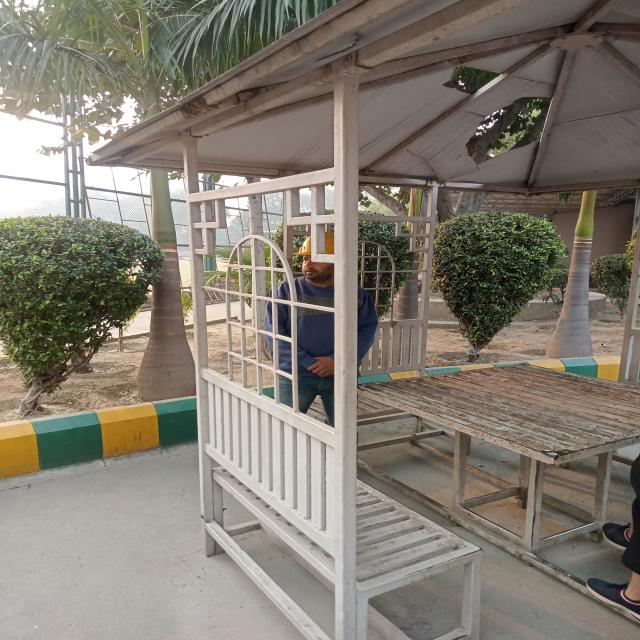no jacket: (278, 234, 376, 417)
